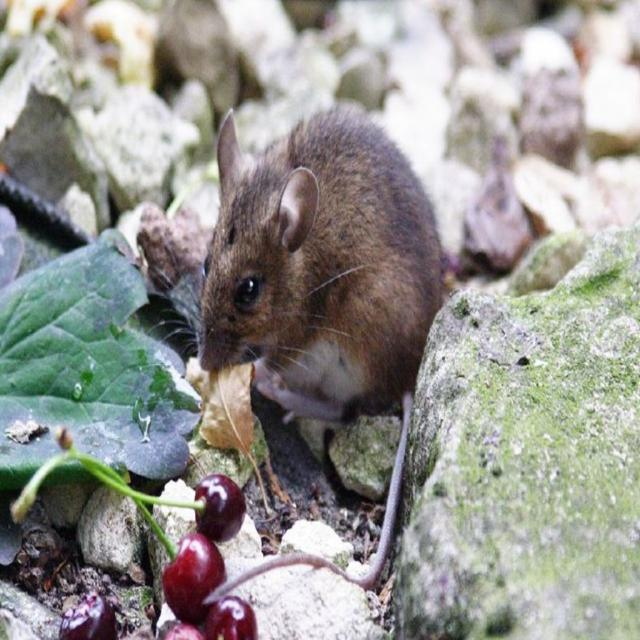rat: (193, 107, 447, 605)
